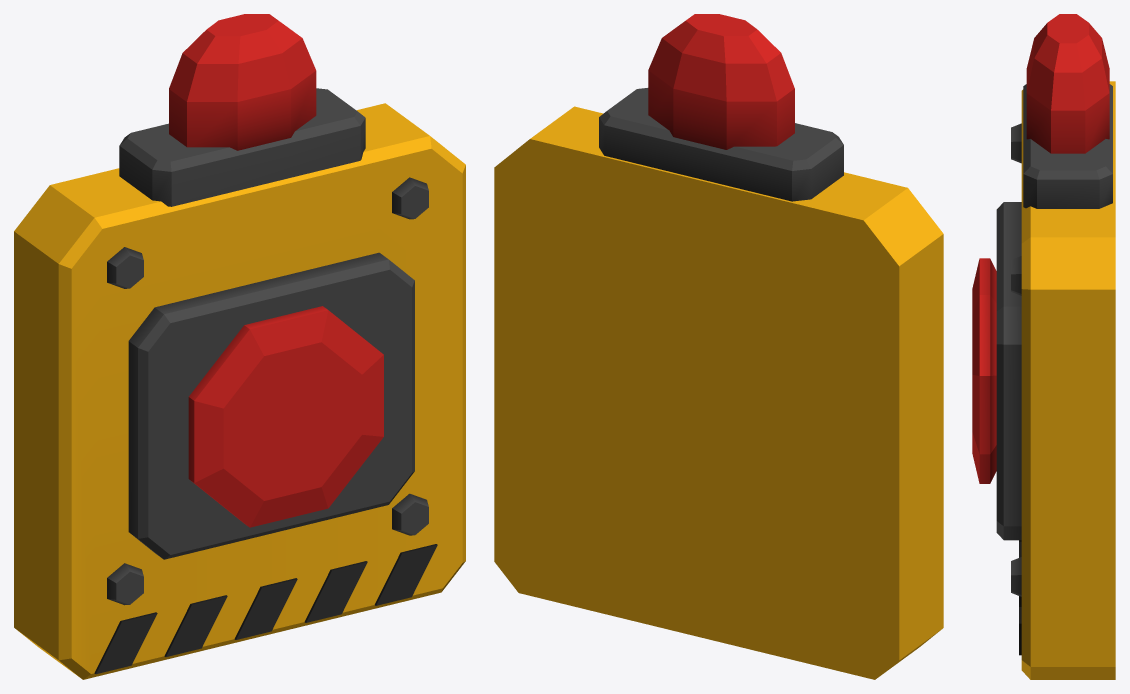
The model's file is alarm-panel.glb.
3 renders of one model, left to right at view 1: azimuth 30°, elevation 25°; view 2: azimuth 150°, elevation 25°; view 3: azimuth 270°, elevation 25°, orthographic. The views are drawn at different scales.
Parts seen in each view (by area): view 1: alarm-panel, button, lamp; view 2: alarm-panel, lamp; view 3: alarm-panel, lamp, button.
Part boxes in pixels (box(x1,y1,x2,y2)): alarm-panel: box(14, 88, 465, 679); button: box(188, 306, 383, 527); lamp: box(169, 14, 316, 150); alarm-panel: box(494, 88, 943, 679); lamp: box(648, 14, 794, 149); alarm-panel: box(996, 81, 1115, 679); lamp: box(1026, 14, 1109, 153); button: box(972, 258, 996, 483).
Size of the model in its own units: 0.5 by 0.7 by 0.16.
3 materials, 3 textured.
